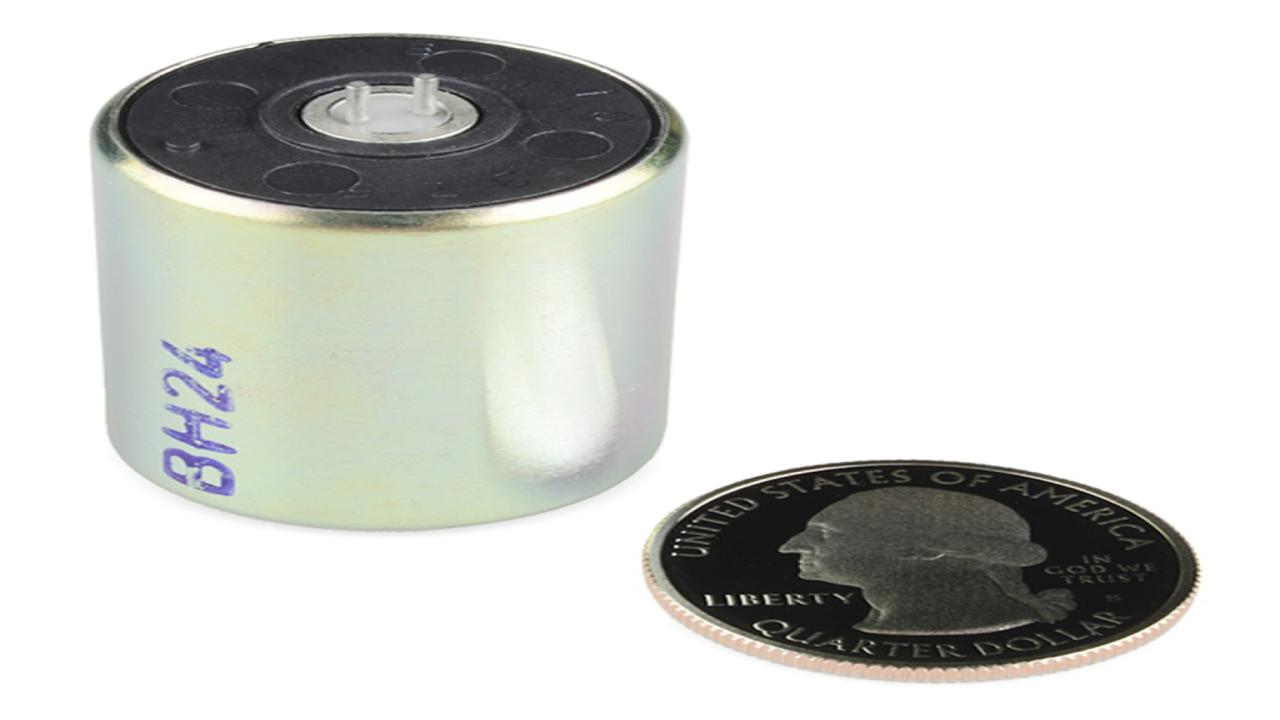coin: (645, 457, 1200, 687)
